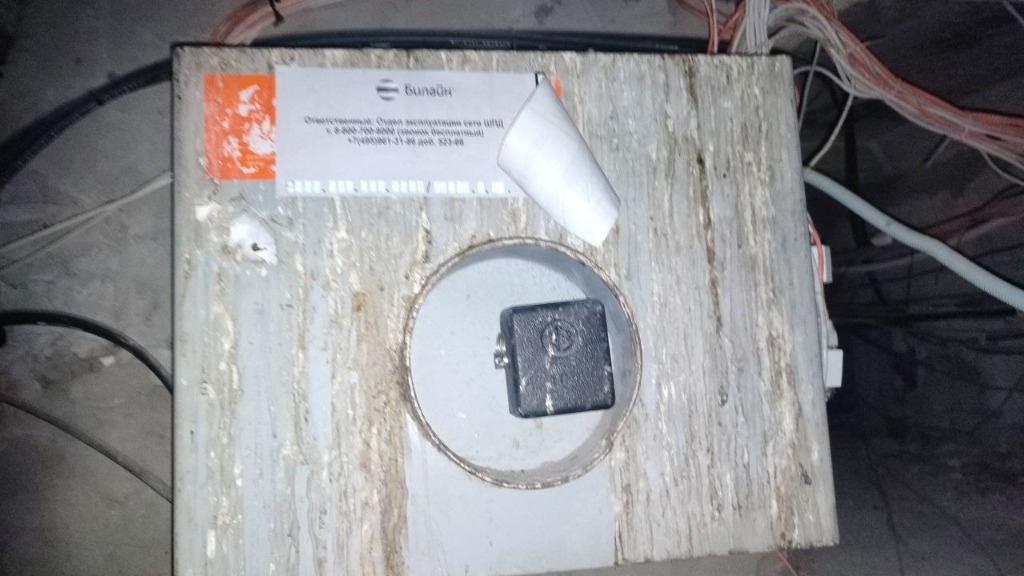shta-3: (166, 36, 846, 571)
